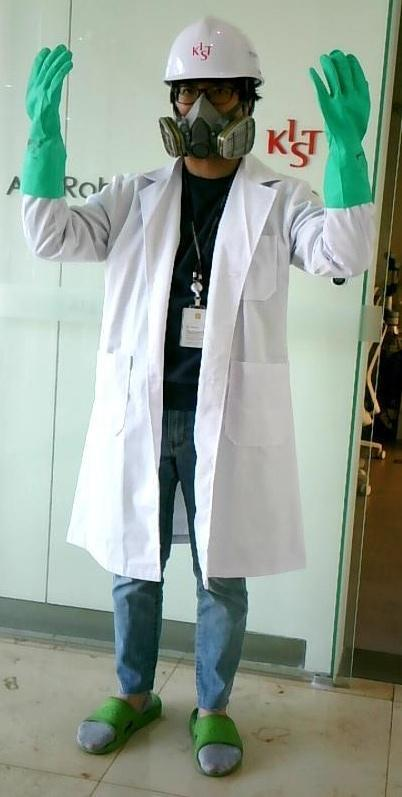lab_coat: (86, 182, 310, 566)
